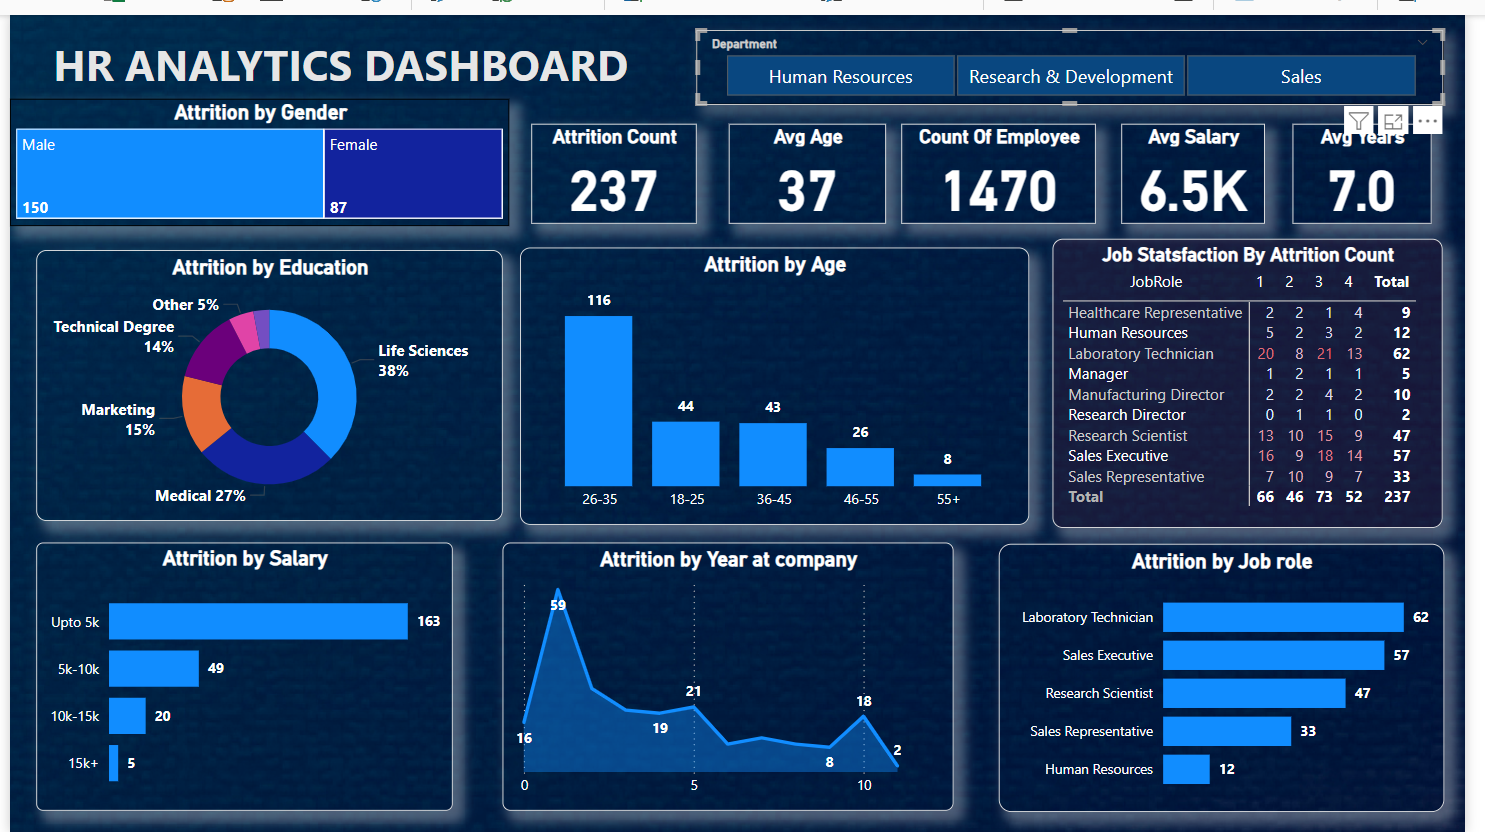

What the dashboard file says about the page in this screenshot:
{"tool":"powerbi","page":{"name":"Page 1","canvas":[1280,720],"ordinal":0},"visuals":[{"type":"card","title":"Count Of Employee","fields":{"Values":["CountNonNull(HR_Analytics.EmpID)"]},"box":[783.5,96.1,171.5,87.8],"z":0},{"type":"card","title":"Attrition Count","fields":{"Values":["Sum(HR_Analytics.Attrition_count)"]},"box":[458.3,96.1,145.5,87.8],"z":1000},{"type":"card","title":"Avg Age","fields":{"Values":["Avg(HR_Analytics.Age)"]},"box":[632.6,96.1,138.6,87.8],"z":2000},{"type":"card","title":"Avg Salary","fields":{"Values":["Avg(HR_Analytics.MonthlyIncome)"]},"box":[977,96.1,126.2,87.8],"z":3000},{"type":"card","title":"Avg Years","fields":{"Values":["Avg(HR_Analytics.YearsAtCompany)"]},"box":[1128,96.1,122.1,87.8],"z":4000},{"type":"donutChart","title":"Attrition by Education","fields":{"Category":["HR_Analytics.EducationField"],"Y":["Sum(HR_Analytics.Attrition_count)"]},"box":[31.6,218.2,367.8,233.3],"z":5000},{"type":"columnChart","title":"Attrition by Age","fields":{"Category":["HR_Analytics.AgeGroup"],"Y":["Sum(HR_Analytics.Attrition_count)"]},"box":[437.7,207.2,389.7,244.3],"z":6000},{"type":"pivotTable","title":"Job Statsfaction By Attrition Count","fields":{"Rows":["HR_Analytics.JobRole"],"Columns":["HR_Analytics.JobSatisfaction"],"Values":["Sum(HR_Analytics.Attrition_count)"]},"box":[890.6,207.2,348.5,244.3],"z":7000},{"type":"barChart","title":"Attrition by Salary","fields":{"Category":["HR_Analytics.SalarySlab"],"Y":["Sum(HR_Analytics.Attrition_count)"]},"box":[32.9,478.9,366.4,220.9],"z":8000},{"type":"barChart","title":"Attrition by Job role","fields":{"Category":["HR_Analytics.JobRole"],"Y":["Sum(HR_Analytics.Attrition_count)"]},"box":[870,478.9,391.1,220.9],"z":9000},{"type":"areaChart","title":"Attrition by Year at company","fields":{"Category":["HR_Analytics.YearsAtCompany"],"Y":["Sum(HR_Analytics.Attrition_count)"]},"box":[433.6,478.9,396.6,220.9],"z":10000},{"type":"treemap","title":" Attrition by Gender","fields":{"Group":["HR_Analytics.Gender"],"Values":["Sum(HR_Analytics.Attrition_count)"]},"box":[0,93.3,439.1,111.1],"z":11000},{"type":"slicer","fields":{"Values":["HR_Analytics.Department"]},"box":[603.8,13.7,657.3,65.9],"z":12000},{"type":"textbox","box":[32.9,13.7,603.8,79.6],"z":13000}]}

Visuals, with their boxes in screenshot pixels (x1, y1, x2, y2), scaled from the page's 1280x720 canvas onto the 1485x832 screenshot:
"Count Of Employee" card: box=[909, 111, 1108, 213]
"Attrition Count" card: box=[532, 111, 701, 213]
"Avg Age" card: box=[734, 111, 895, 213]
"Avg Salary" card: box=[1133, 111, 1280, 213]
"Avg Years" card: box=[1309, 111, 1450, 213]
"Attrition by Education" donutChart: box=[37, 252, 463, 522]
"Attrition by Age" columnChart: box=[508, 239, 960, 522]
"Job Statsfaction By Attrition Count" pivotTable: box=[1033, 239, 1438, 522]
"Attrition by Salary" barChart: box=[38, 553, 463, 809]
"Attrition by Job role" barChart: box=[1009, 553, 1463, 809]
"Attrition by Year at company" areaChart: box=[503, 553, 963, 809]
" Attrition by Gender" treemap: box=[0, 108, 509, 236]
slicer - HR_Analytics.Department: box=[701, 16, 1463, 92]
textbox: box=[38, 16, 739, 108]
